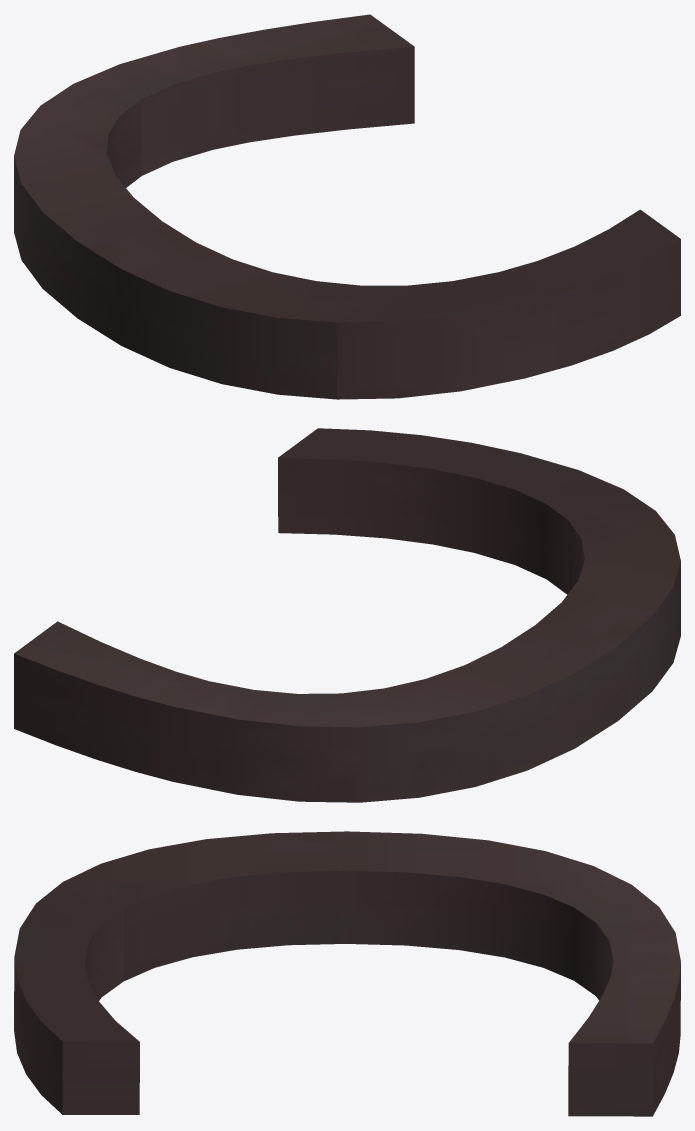
Rendered from Mesa2.obj.
3 renders of one model, top to bottom at view 1: azimuth 30°, elevation 25°; view 2: azimuth 150°, elevation 25°; view 3: azimuth 270°, elevation 25°, orthographic. The views are drawn at different scales.
Parts seen in each view (by area): view 1: typeMesh1; view 2: typeMesh1; view 3: typeMesh1.
Part boxes in pixels (<box>): typeMesh1: <box>14,14,680,399</box>; typeMesh1: <box>14,428,680,802</box>; typeMesh1: <box>14,831,680,1116</box>.
Bounding box in the file's own units: 2.56 × 0.4265 × 3.41.
1 material, 1 textured.
